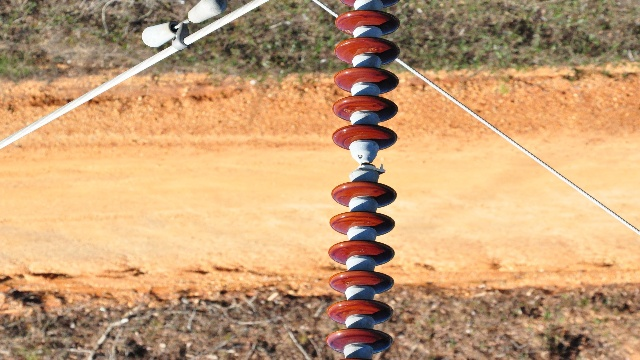broken_local: (357, 159, 383, 173)
insulator_unspecified: (326, 0, 402, 353)
